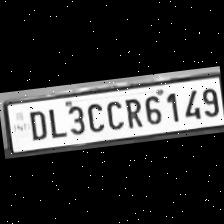1: (160, 88, 180, 124)
3: (63, 101, 86, 136)
4: (177, 84, 200, 120)
6: (140, 92, 164, 126)
9: (196, 83, 221, 117)
C: (82, 98, 105, 133), (102, 96, 124, 130)
D: (24, 106, 48, 141)
L: (44, 104, 65, 138)
R: (120, 94, 142, 129)
